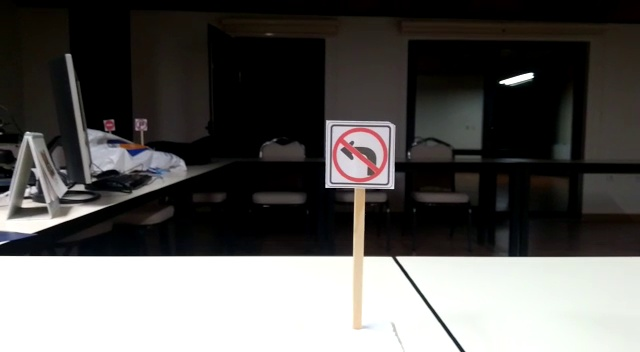sola_donulmez: (324, 120, 394, 186)
